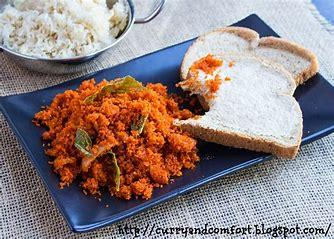Pol Sambol: (36, 79, 181, 206)
